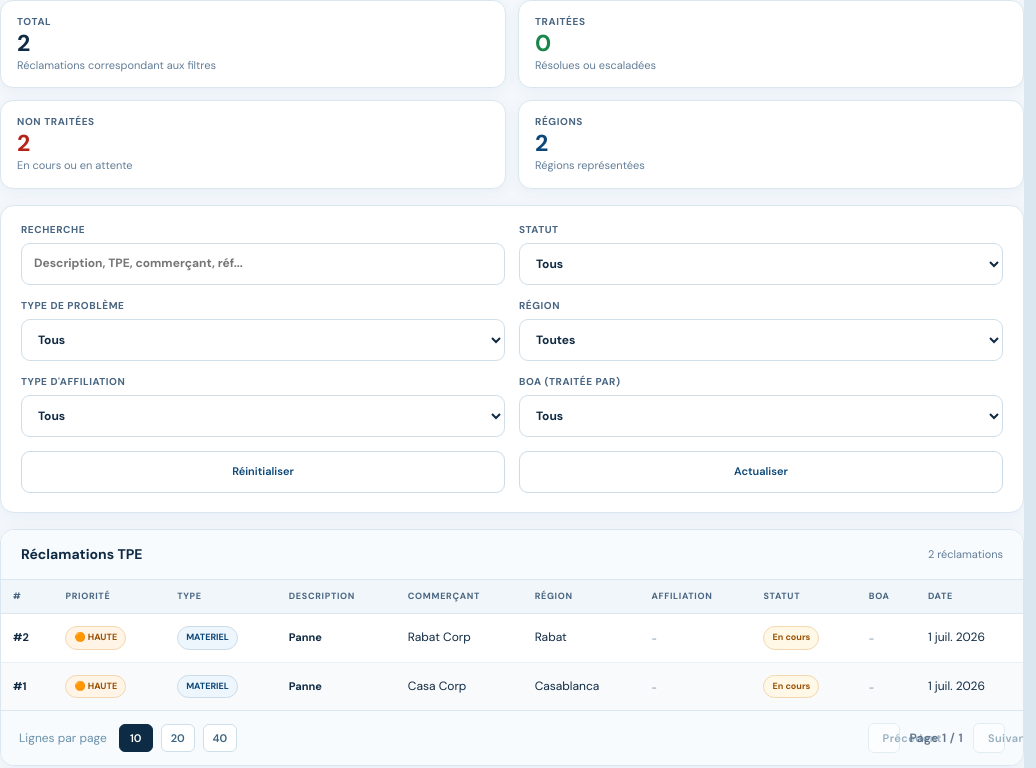
SupervisorReclamationsPage › filtre par region
The width and height of the screenshot is (1036, 768).
Check: the text "Casa Corp" is shown, box x1=396 y1=663 x2=523 y2=710
Select "Rabat-Salé-Kénitra" in the dropdown labelled "Région": (761, 340) x1=519 y1=319 x2=1003 y2=361
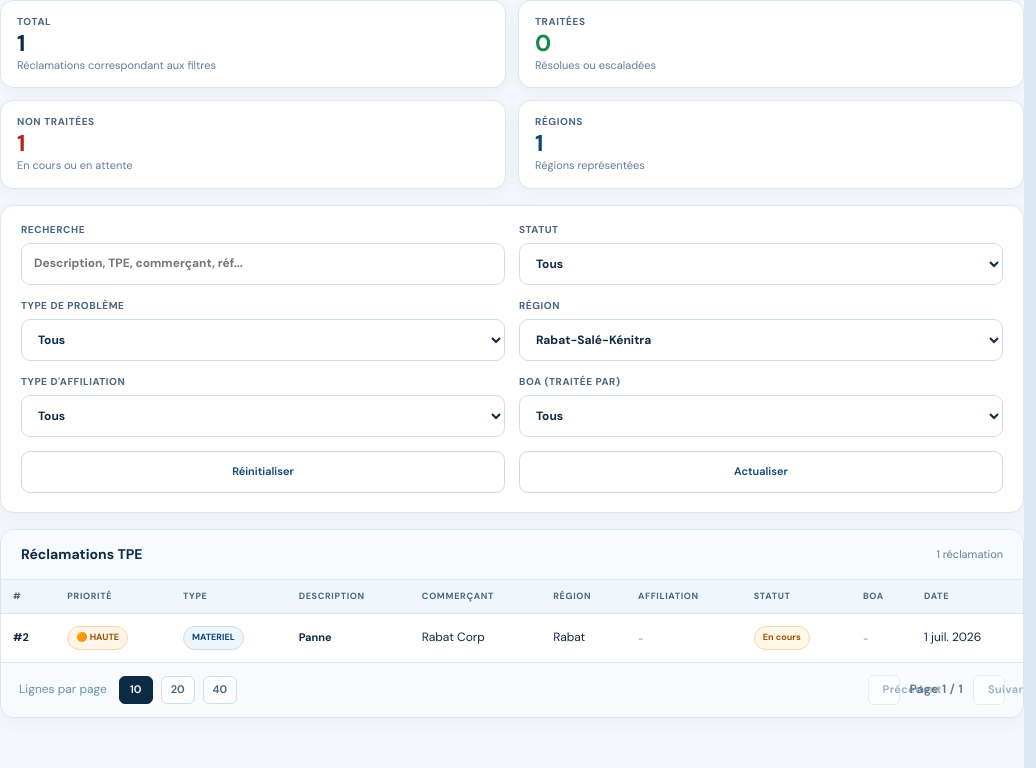
Check: the text "Rabat Corp" is shown, box x1=410 y1=614 x2=541 y2=662
Check: the text "Casa Corp" is gone
